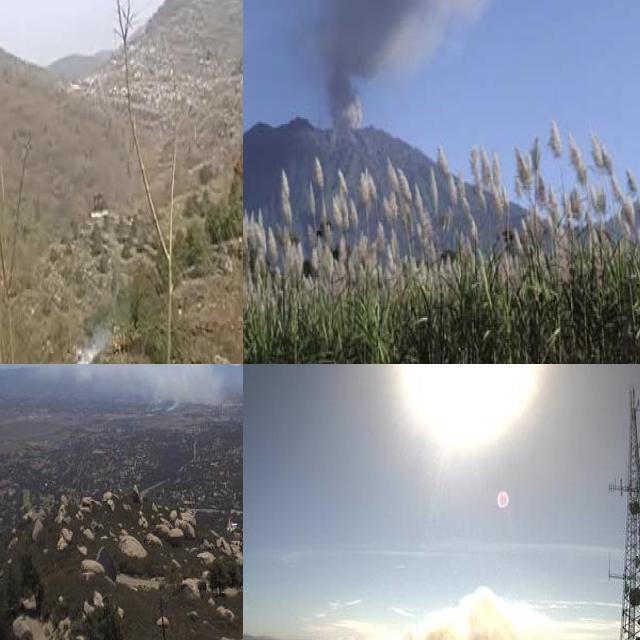smoke: (291, 0, 622, 129), (292, 584, 564, 640), (39, 364, 229, 410), (59, 325, 110, 364)
